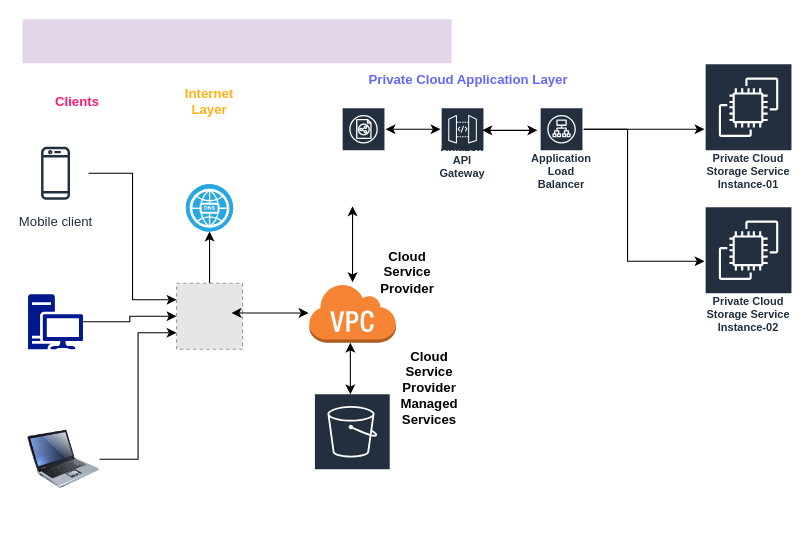
This 812x545 diagram has some shape labels left out. Grey dashed boxes stand in for pictures. Here are the shapes that lost their labels. From the top down, the centre of each, then its label:
point (236, 41): Design: Private Distributed Storage Service Architecture # Rishant Gupta
point (363, 150): Classic Load Balancer
point (352, 458): Public Cloud Amazon S3 Service
